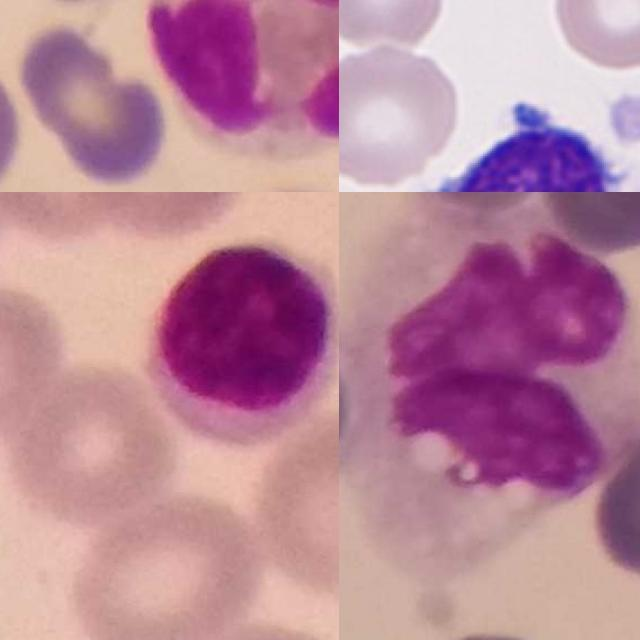Eosinophil: (151, 0, 339, 159)
Lymphocyte: (142, 238, 339, 447), (392, 95, 640, 192)
Monocyte: (342, 206, 640, 587)
Platelets: (602, 88, 640, 149)
RBC: (339, 39, 464, 187), (546, 0, 640, 73), (339, 0, 451, 50)
